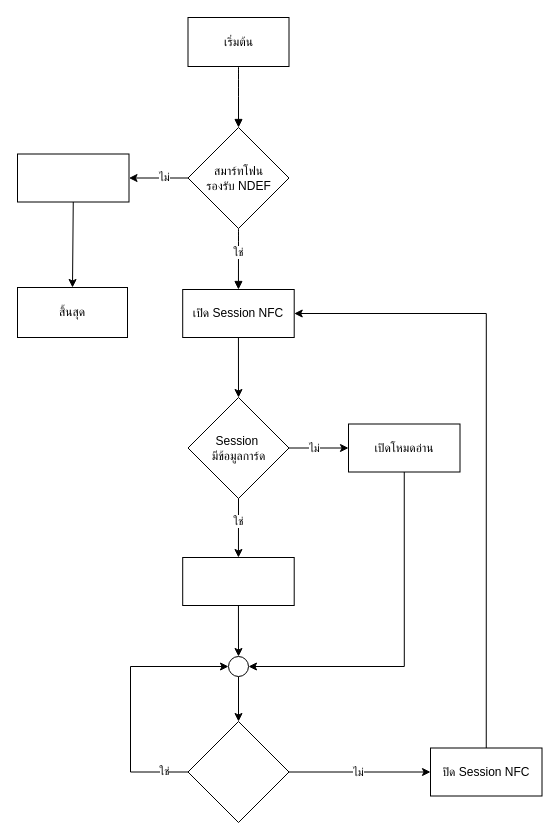
Some shapes in this 560 by 840 pixel diagram are drawn without their labels. The box of each missing label's shape, as (x1, y1, x2, y2) in pixels:
เปิดโหมดเขียน: (182, 556, 294, 606)
แสดงข้อผิดพลาด: (16, 153, 129, 202)
ไม่มีข้อ ผิดพลาดระหว่าง อ่าน-เขียน: (187, 720, 289, 822)
